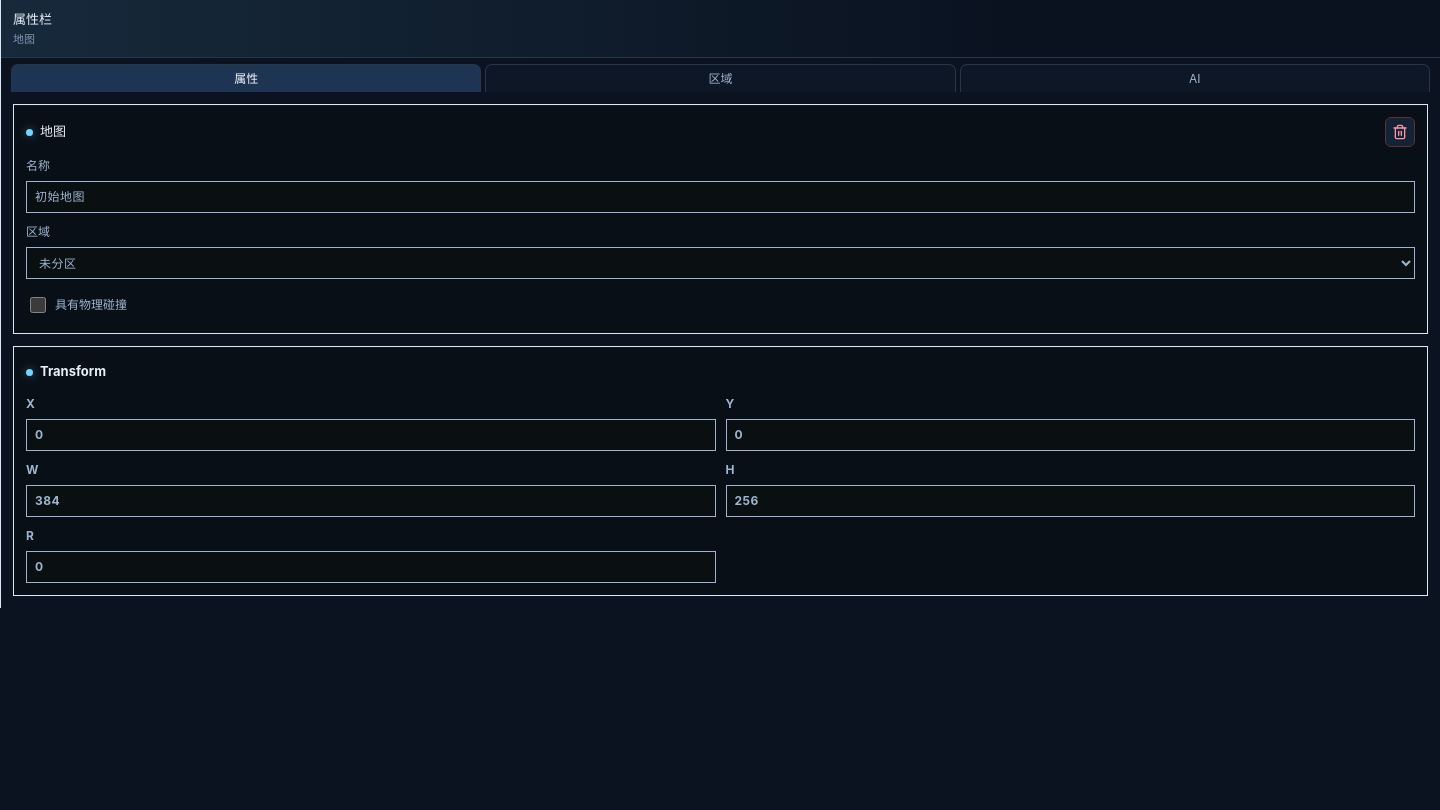
Test: PropertiesPanel › searches and completes slash commands from the chat input
Click the tab "AI": point(1195, 78) [960, 64, 1430, 92]
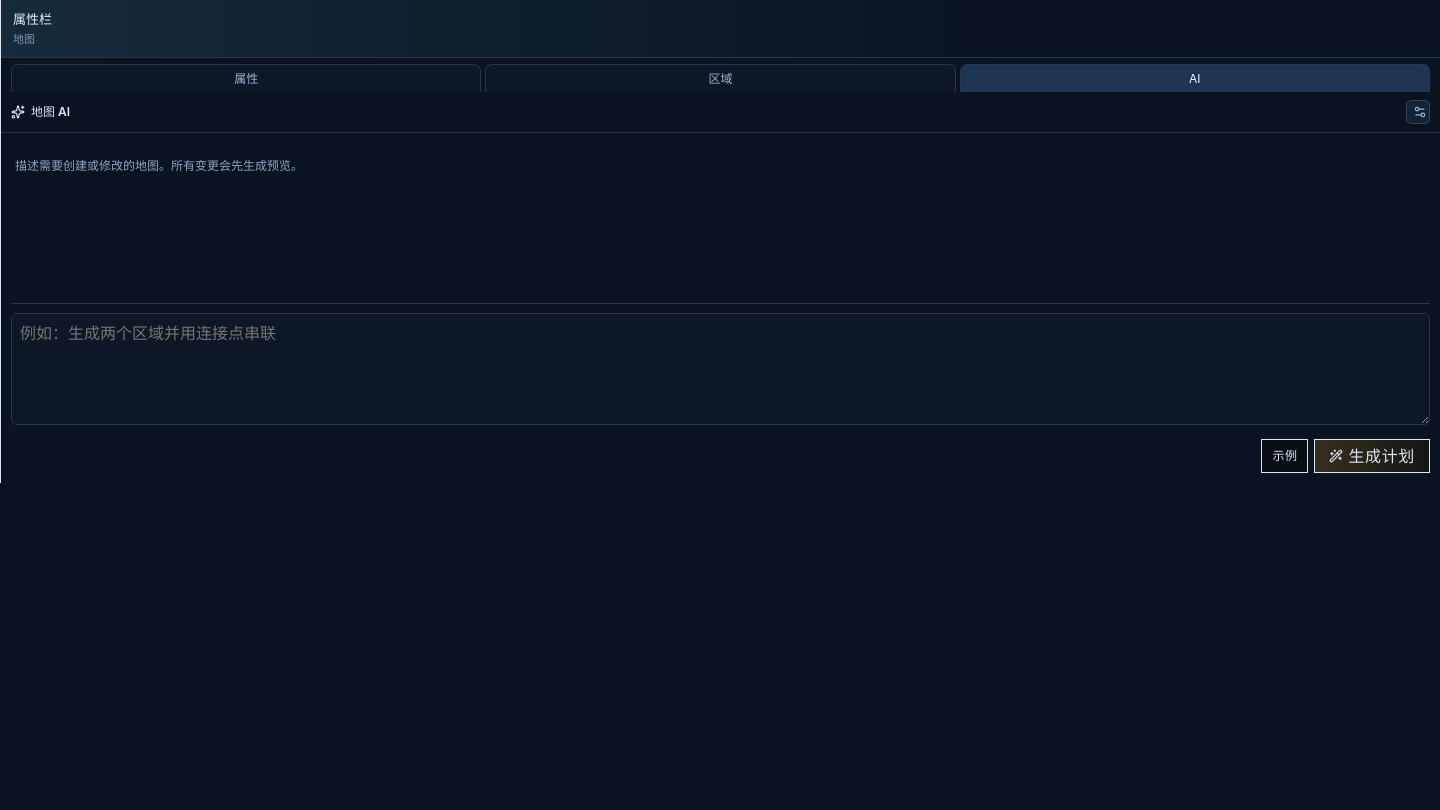
In the text box named "地图 AI 指令": point(720, 369) [11, 313, 1430, 425], type "/s"
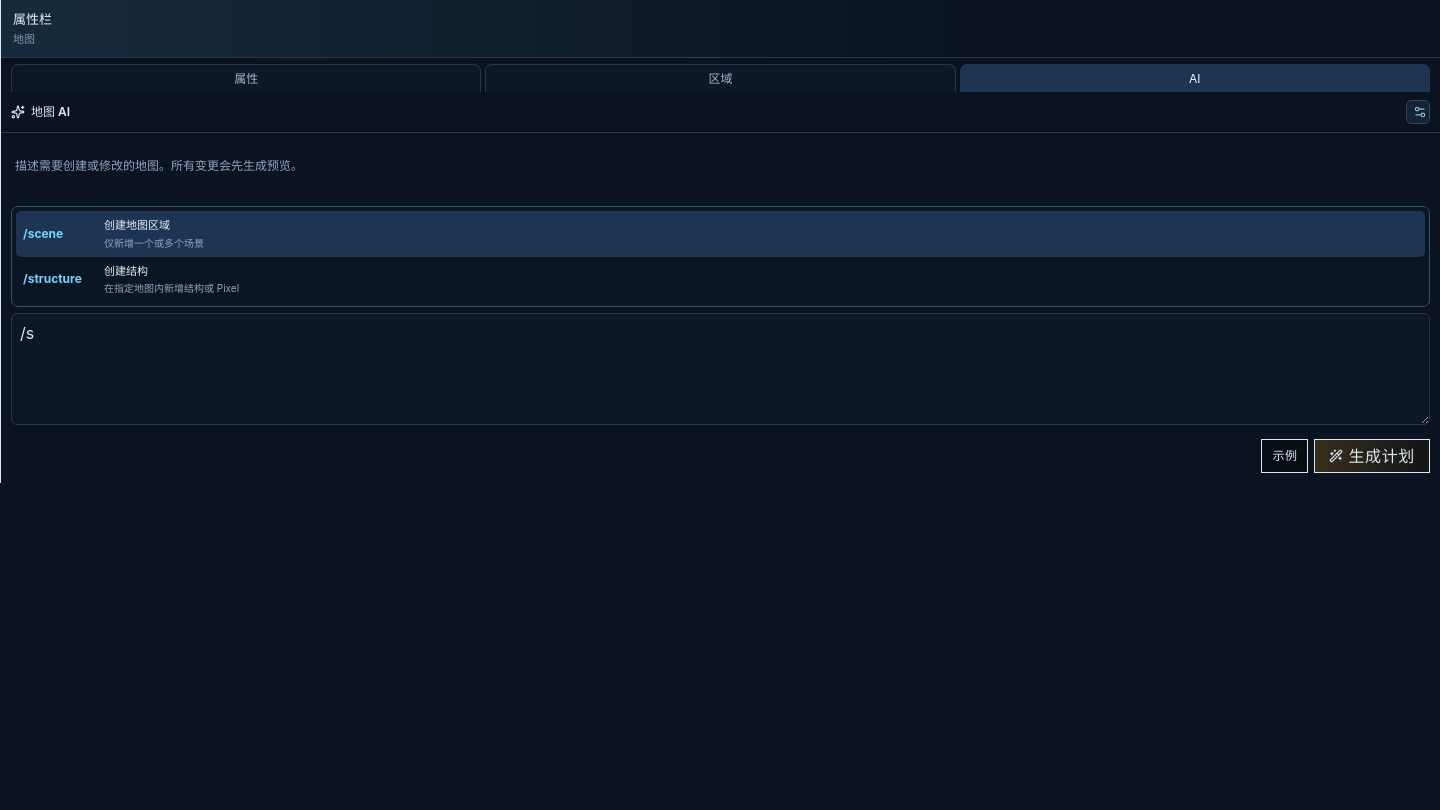
expect the option "/scene 创建地图区域 仅新增一个或多个场景" is shown: met, box [16, 211, 1425, 256]
Press Tab in the text box named "地图 AI 指令", box [11, 313, 1430, 425]
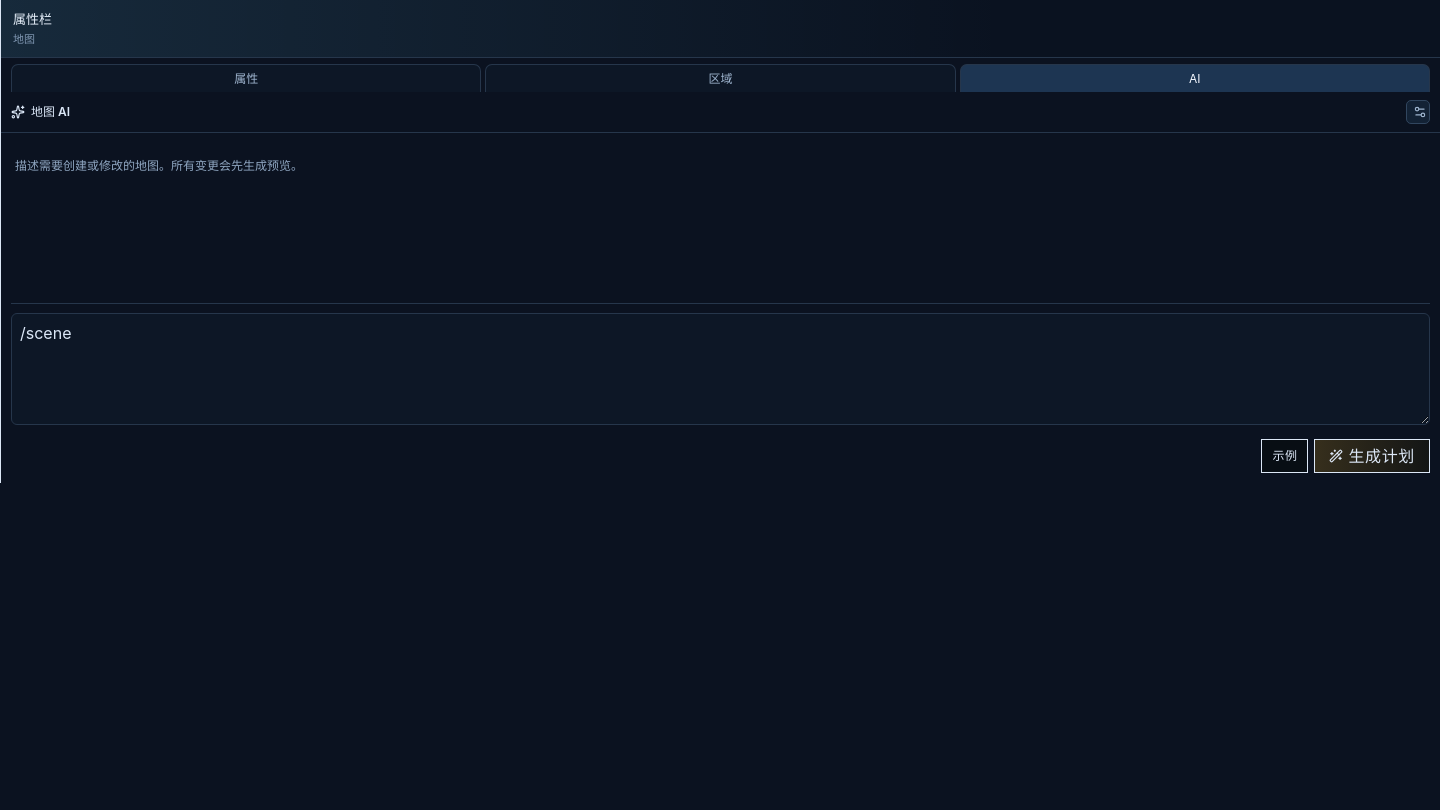
expect the text box named "地图 AI 指令" holds "/scene ": met
Replace the text in the text box named "地图 AI 指令" with "/g": point(720, 369) [11, 313, 1430, 425]
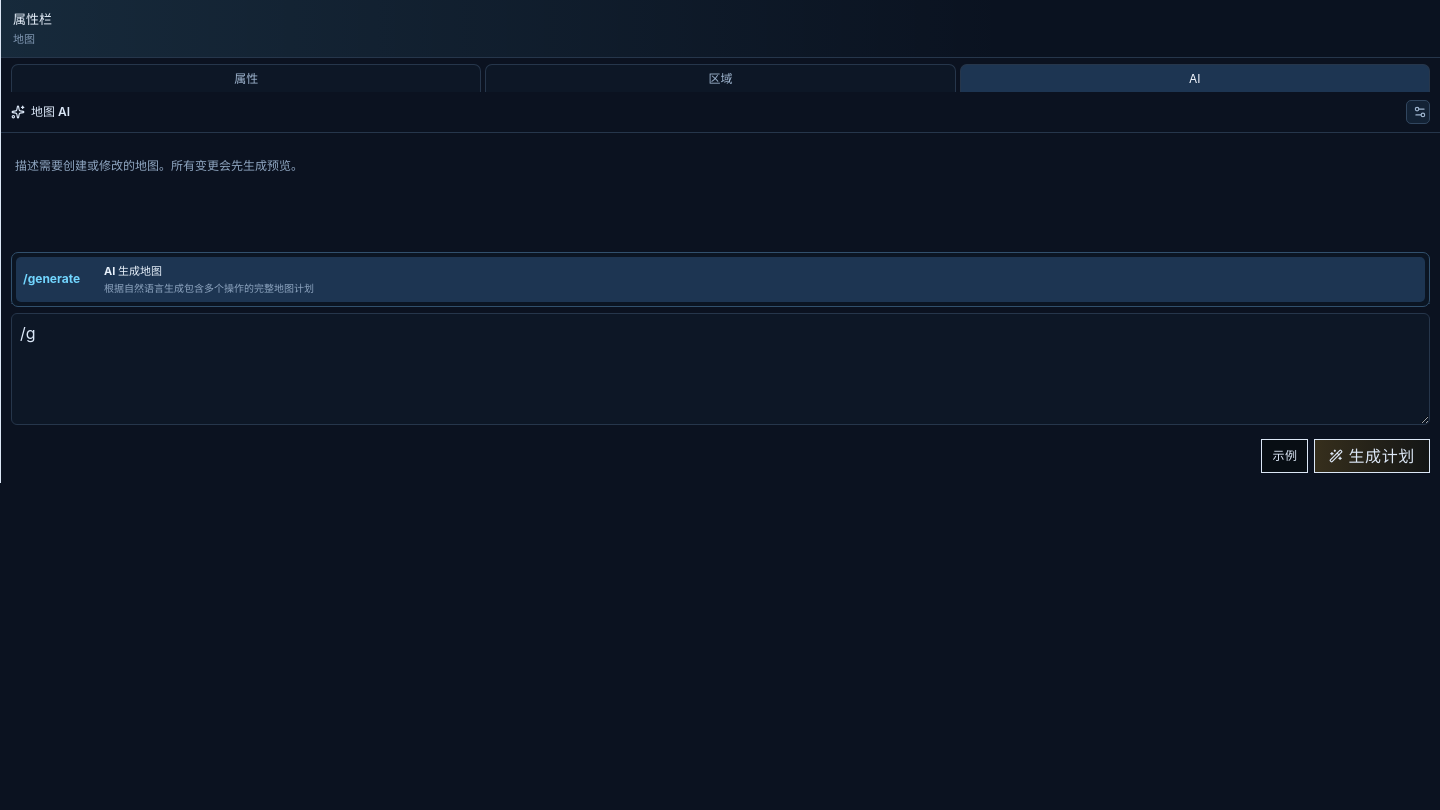
expect the option "/generate AI 生成地图 根据自然语言生成包含多个操作的完整地图计划" is shown: met, box [16, 256, 1425, 302]
